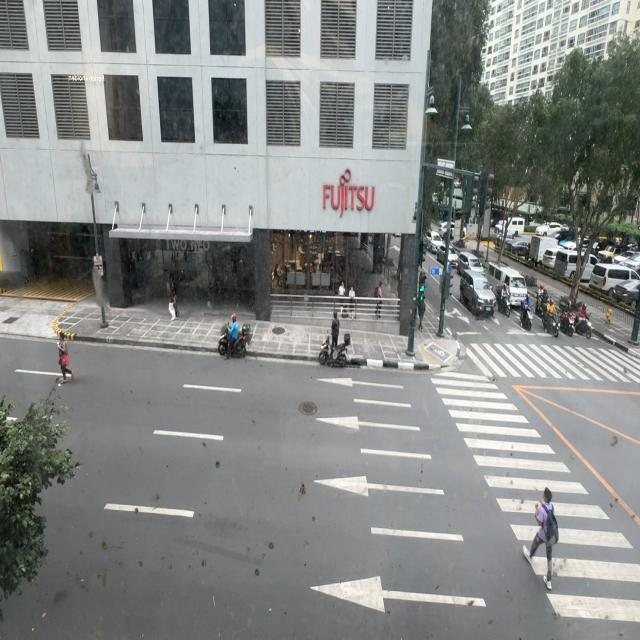jaywalking: (57, 332, 75, 383)
